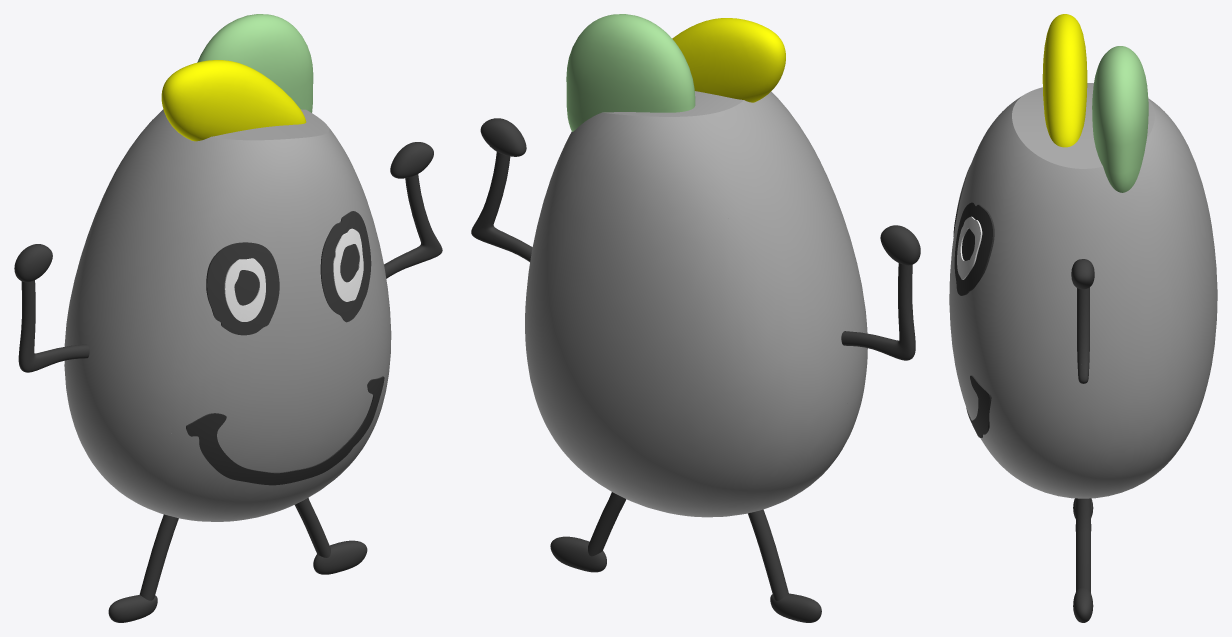
3 views of the same model, side by side, from view 1: azimuth 30°, elevation 25°; view 2: azimuth 150°, elevation 25°; view 3: azimuth 270°, elevation 25° (orthographic). The views are drawn at different scales.
Visible parts, largest first — view 1: 031_kurogomakun; view 2: 031_kurogomakun; view 3: 031_kurogomakun.
Boxes of the visible parts, x1,y1,x2,y2 form: 031_kurogomakun: [14, 14, 442, 622]; 031_kurogomakun: [471, 14, 920, 622]; 031_kurogomakun: [949, 14, 1217, 622].
Size of the model in its own units: 0.1279 by 0.1598 by 0.0727.
